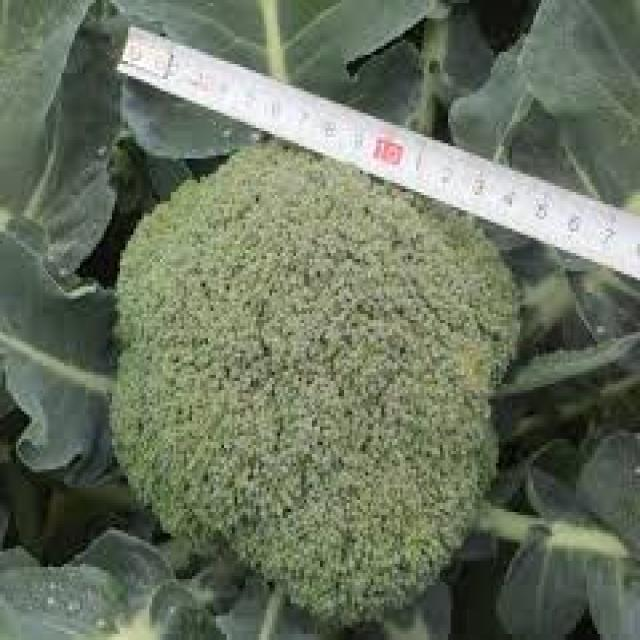broccoli: (61, 125, 540, 611)
